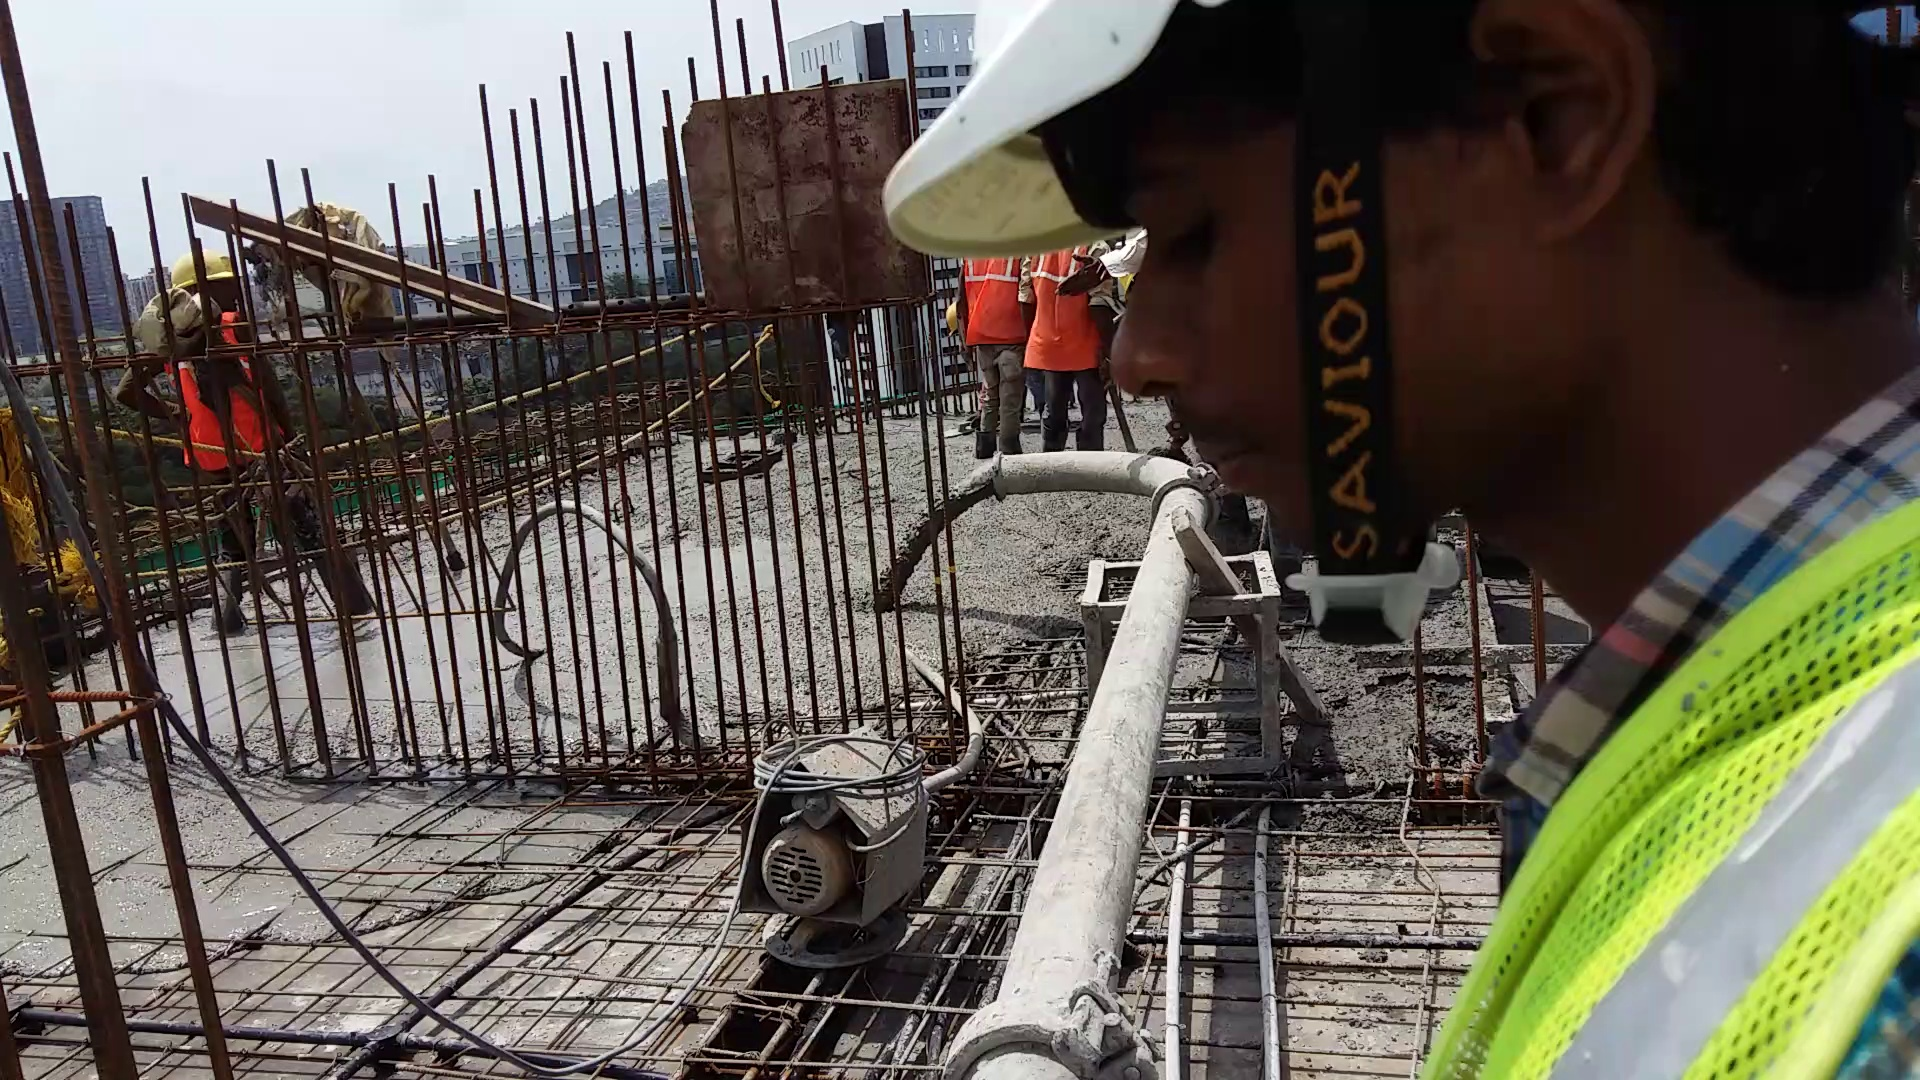SAFE: (887, 1, 1919, 1077)
